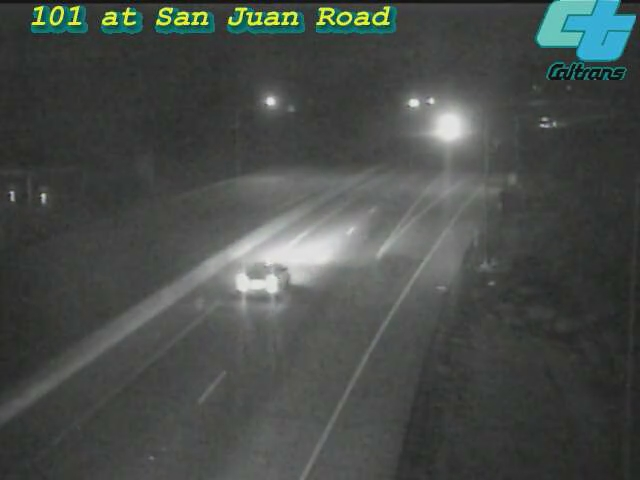vehicle: (226, 235, 306, 315), (419, 104, 469, 154), (526, 96, 576, 146)
